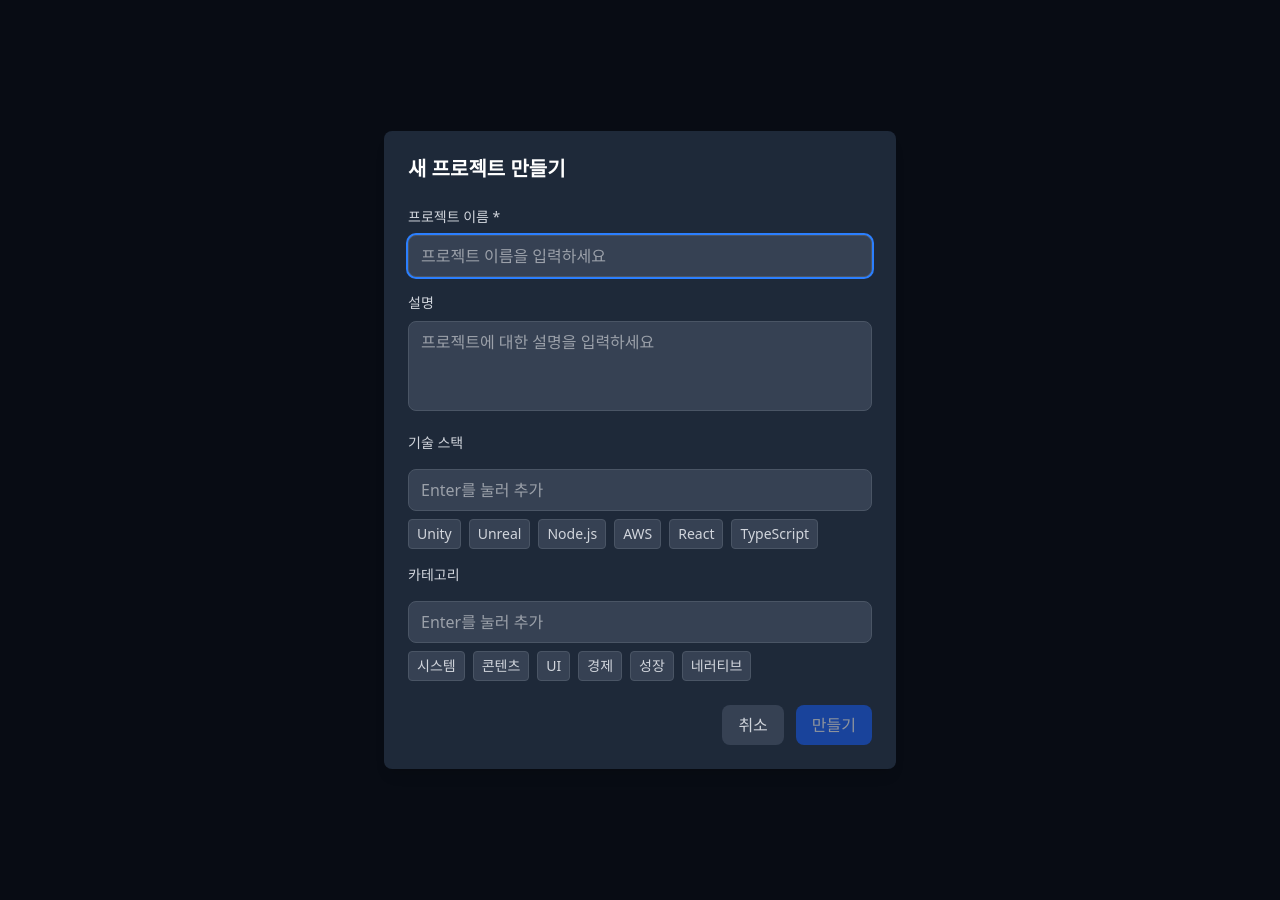
Test: ProjectCreateModal › Tag Input - Tech Stack › should add suggested tech stack when clicking
Click the button with aria-label "add Unity" at (434, 534), box left=408, top=519, right=461, bottom=549
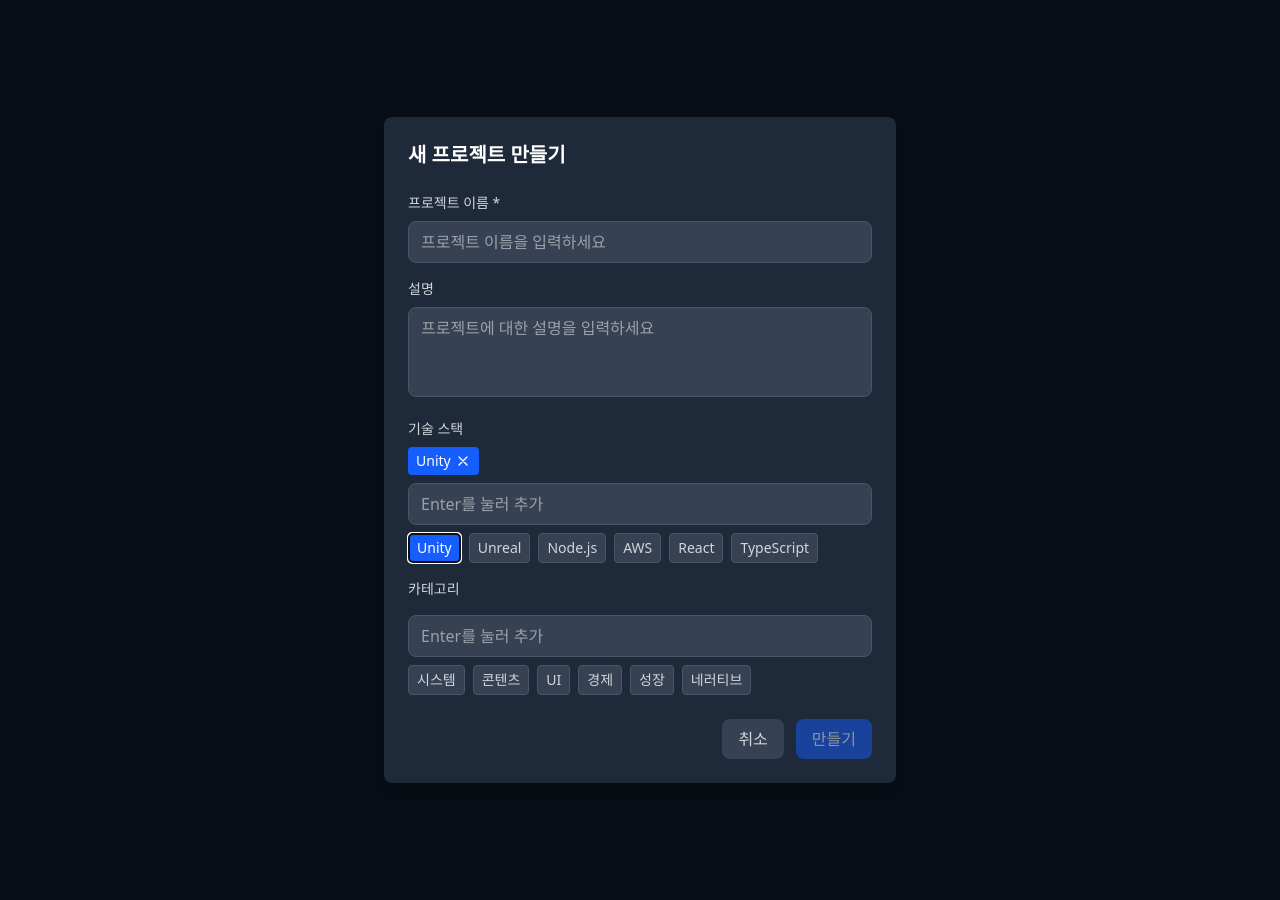
Now the element with test id "techstack-tags" reads "Unity", box left=416, top=451, right=451, bottom=470
